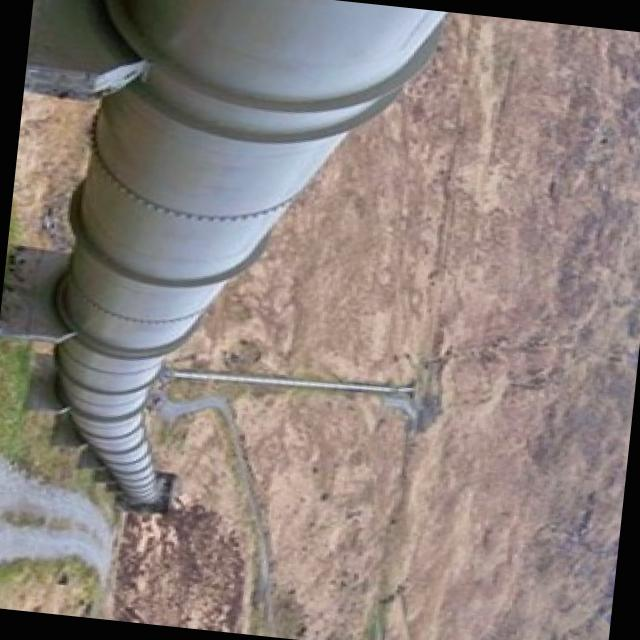gas: (59, 0, 443, 509)
